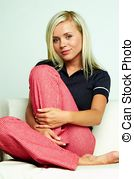face: (43, 7, 91, 68)
